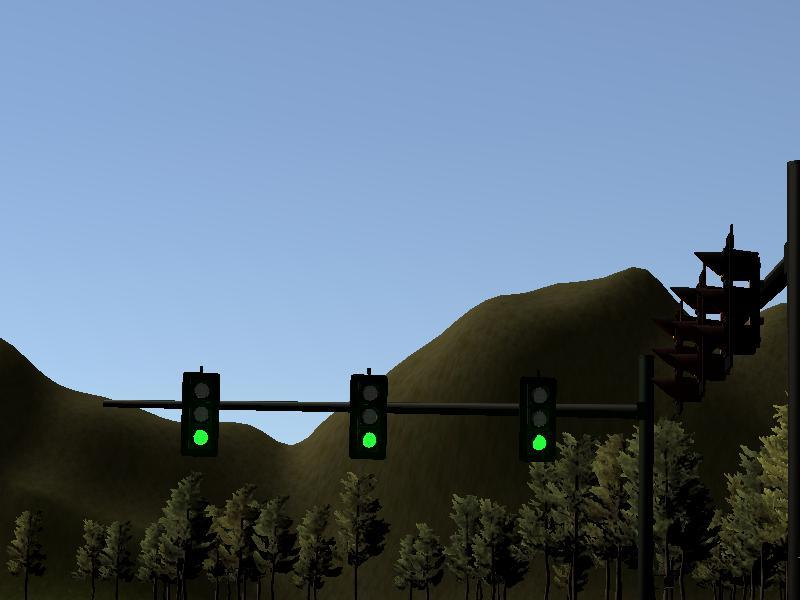Green: (181, 371, 218, 455), (521, 379, 558, 463), (349, 374, 386, 458)
